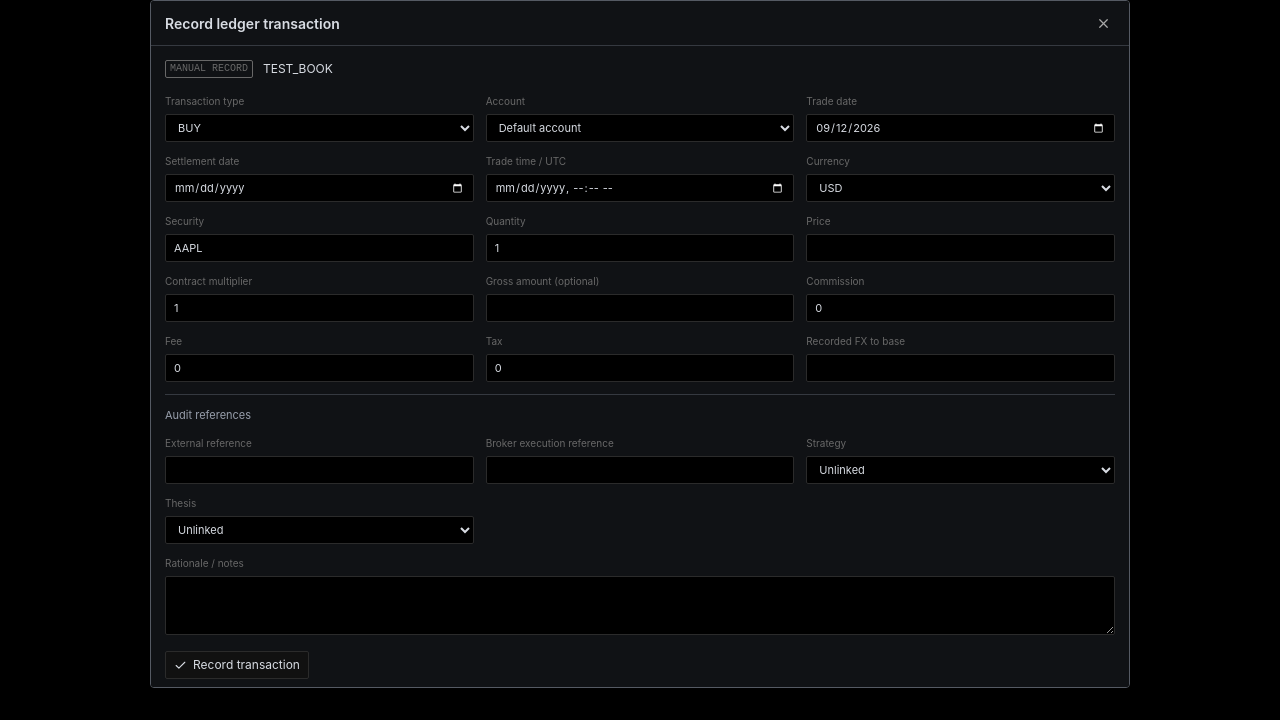
it: manual transaction entry › retains the entered values and surfaces server rejection without closing
This screenshot has width=1280, height=720.
Expected: the element "Transaction type" is enabled, [165,94,1115,651]
Step 1. Select "DEPOSIT" in the dropdown labelled "Transaction type" → {"x": 319, "y": 128}, box [165,114,474,142]
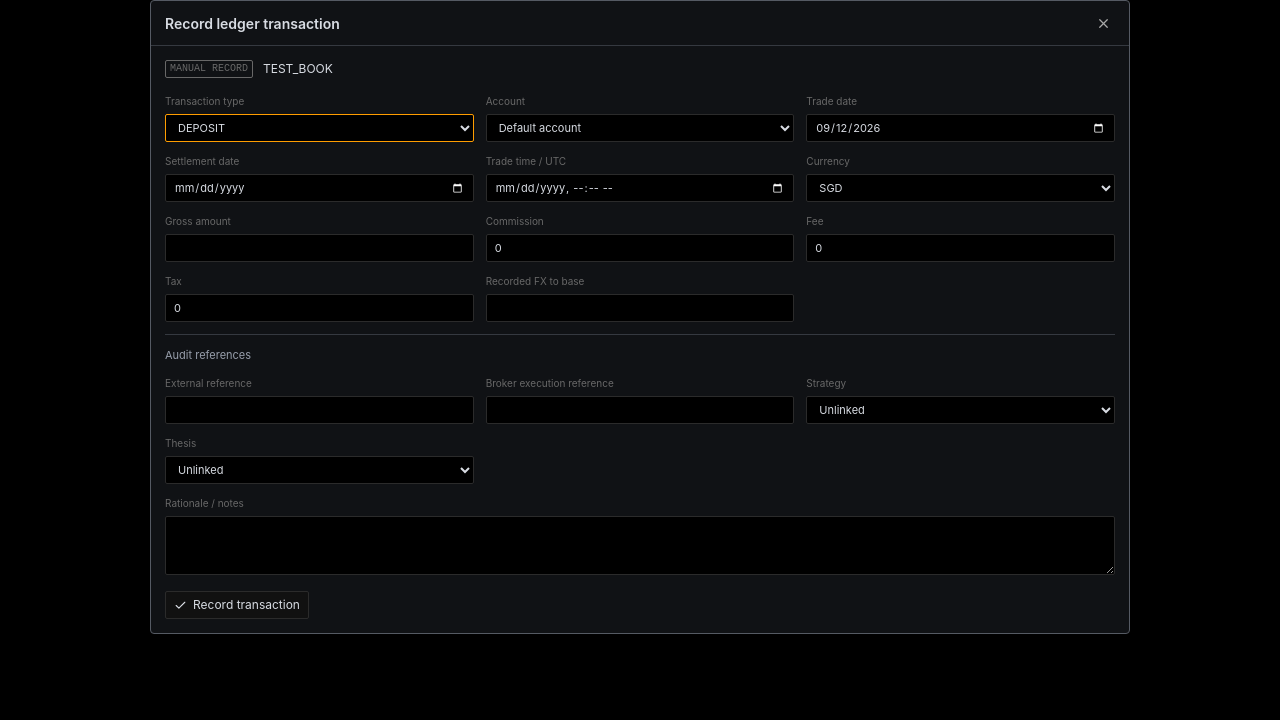
Step 2. Type "42.12" into the number field labelled "Gross amount" → {"x": 319, "y": 248}, box [165,234,474,262]
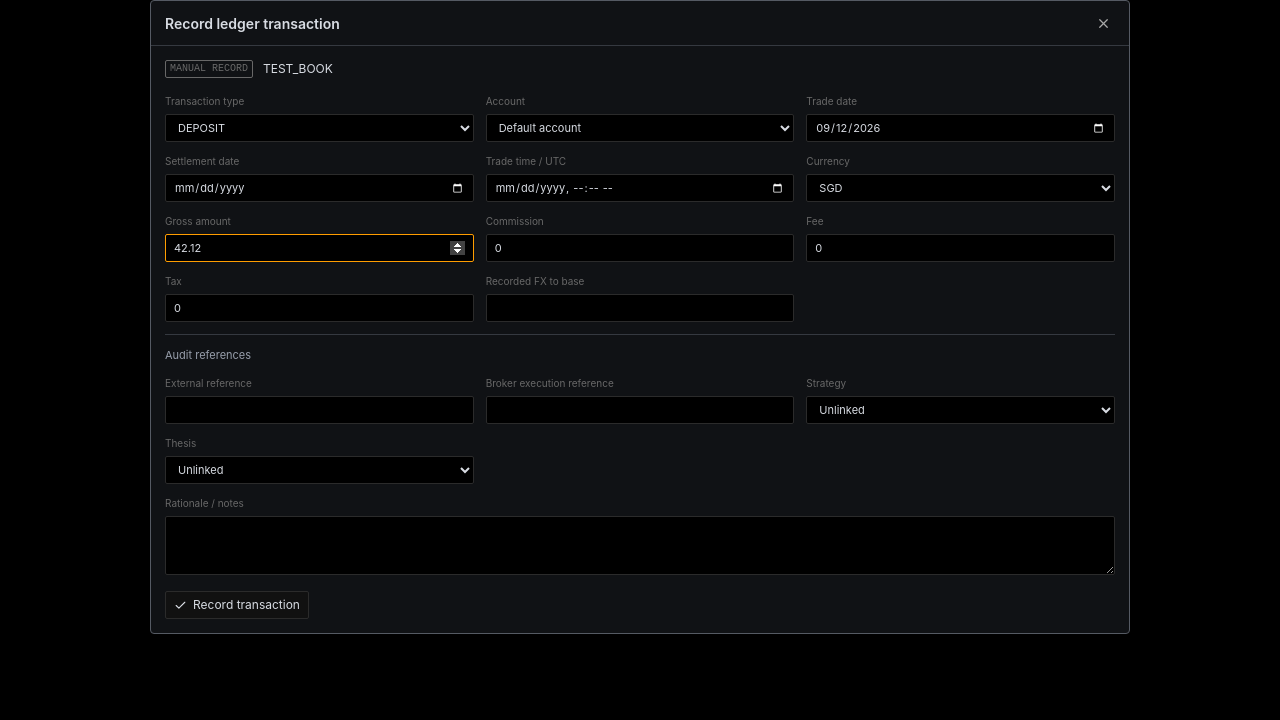
Step 3. Click the button "Record transaction" → {"x": 237, "y": 605}, box [165,591,309,619]
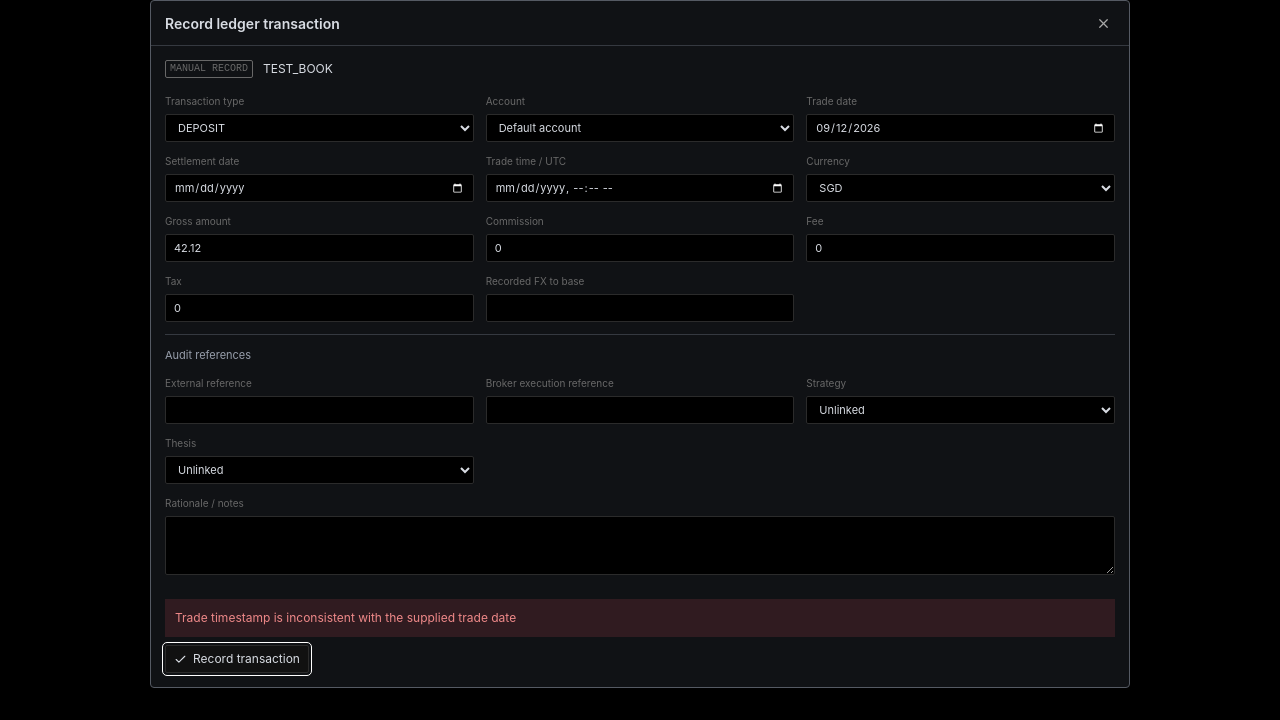
Expected: the message shows "inconsistent", [175,610,516,625]
